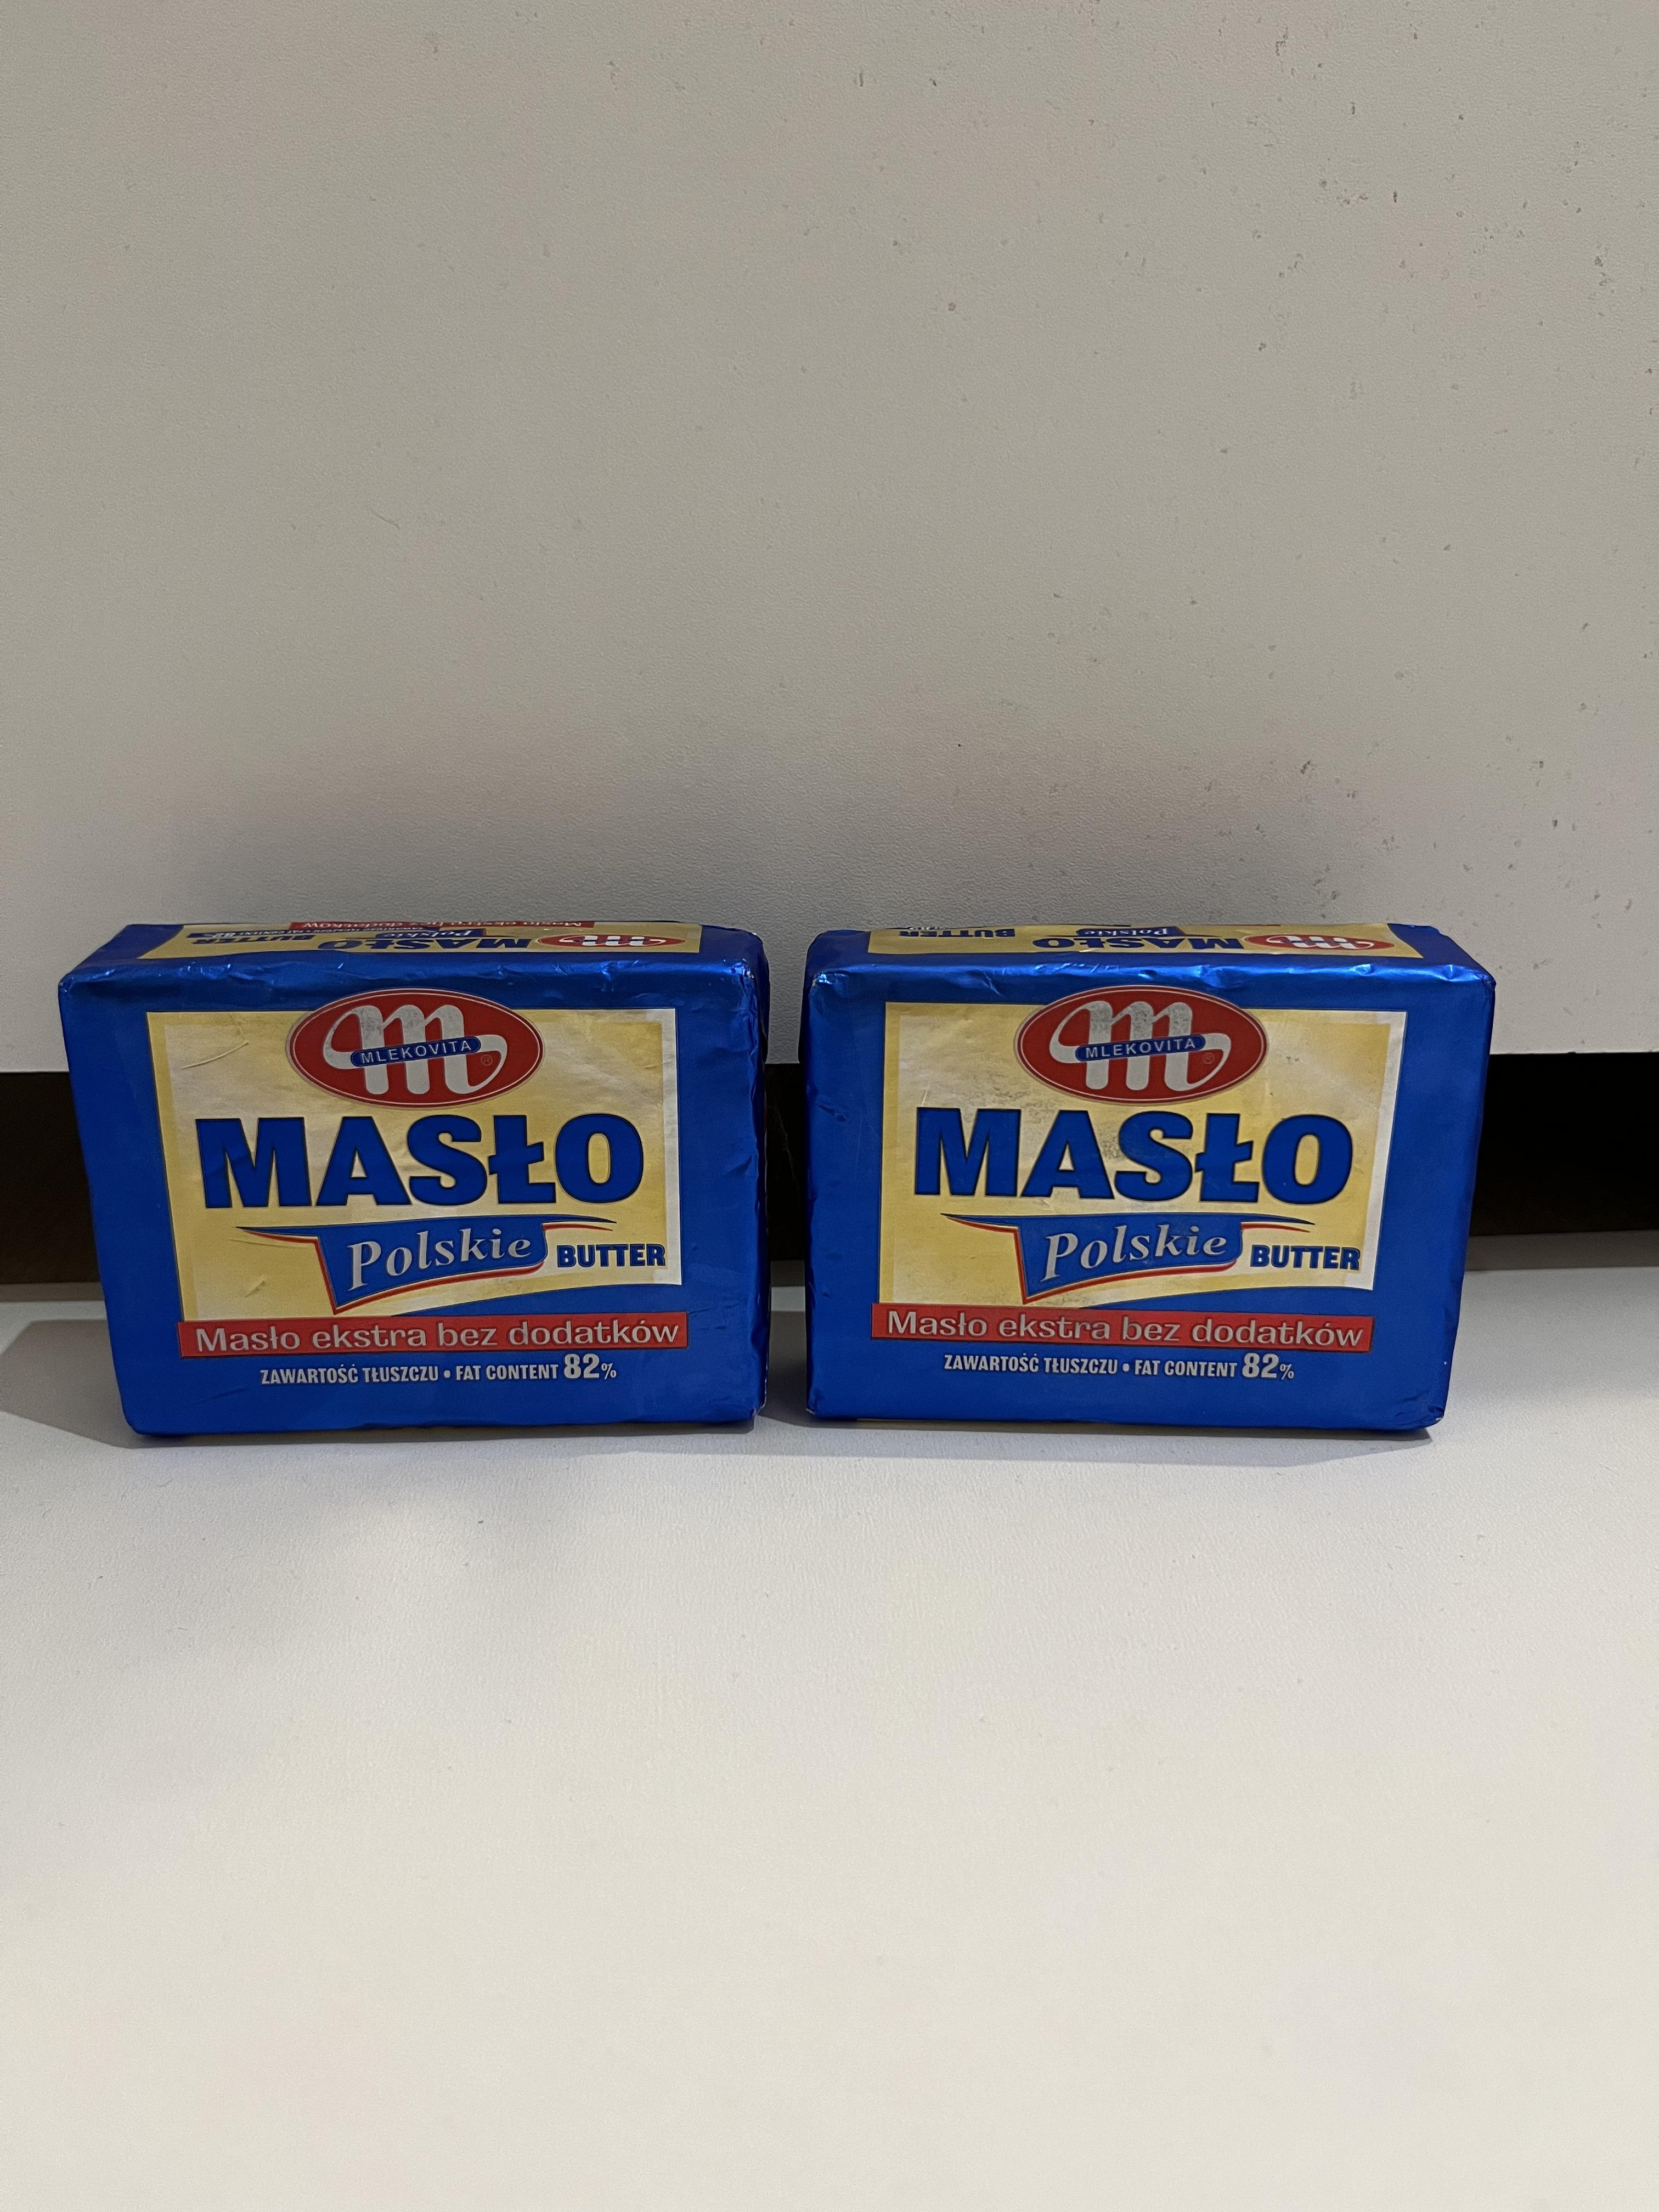Butter: (84, 920, 775, 1449), (809, 921, 1480, 1440)
